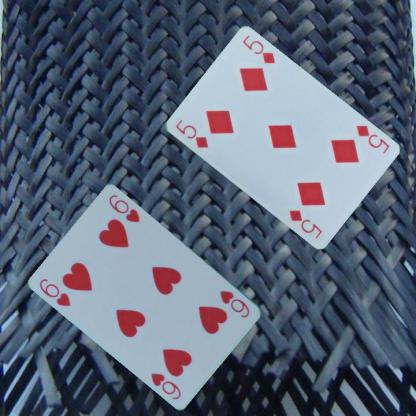5d: (172, 116, 210, 150), (353, 122, 391, 154)
6h: (37, 276, 72, 308), (218, 288, 252, 320)
